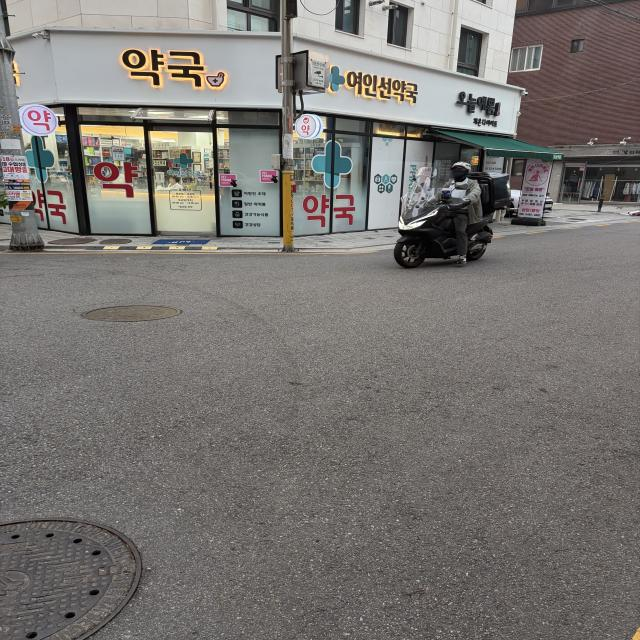motorcycle: (371, 142, 538, 288)
